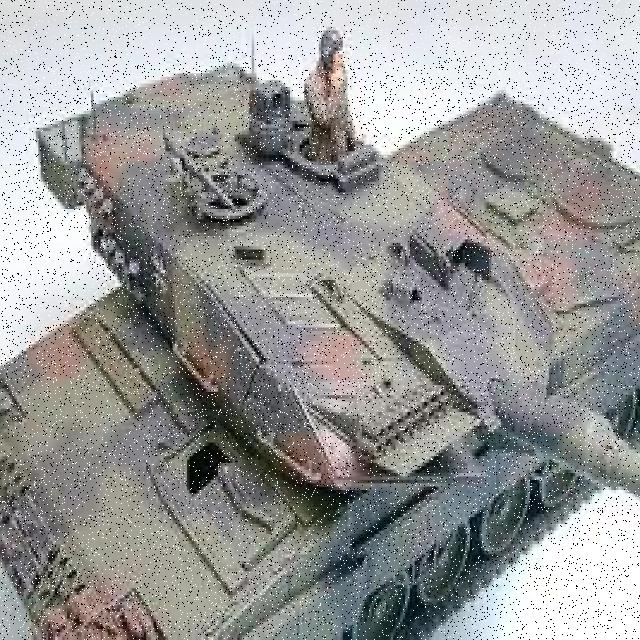MIL_MBT: (1, 64, 639, 636)
